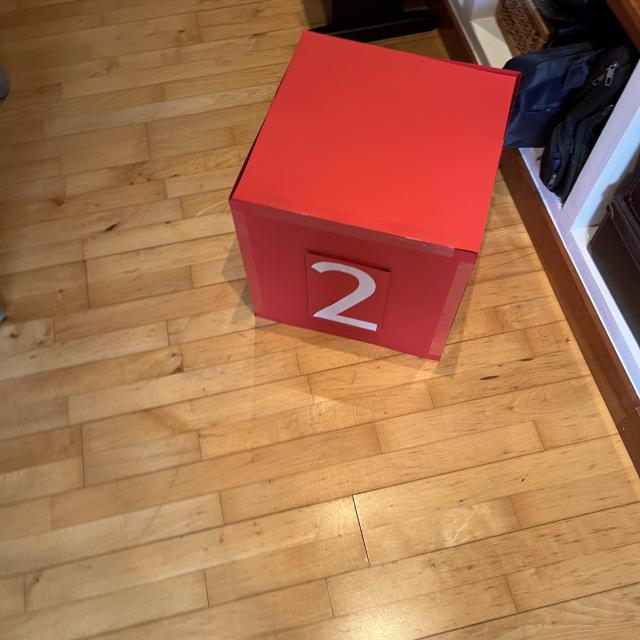box: (226, 27, 522, 363)
